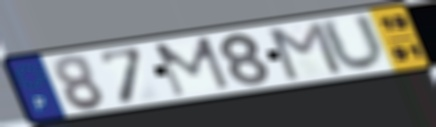7: (101, 44, 145, 106)
8: (53, 53, 106, 112), (217, 32, 272, 87)
M: (151, 34, 234, 99), (267, 19, 346, 82)
U: (316, 12, 389, 73)
